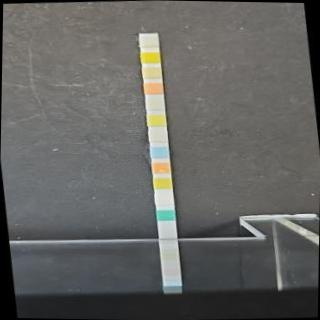mark: (138, 36, 158, 49), (148, 129, 168, 142), (150, 145, 170, 158), (141, 66, 162, 78), (144, 82, 163, 95), (151, 162, 171, 174), (147, 114, 166, 126), (157, 208, 176, 220), (140, 51, 160, 62), (144, 99, 164, 110), (154, 178, 172, 190), (154, 193, 173, 204)
